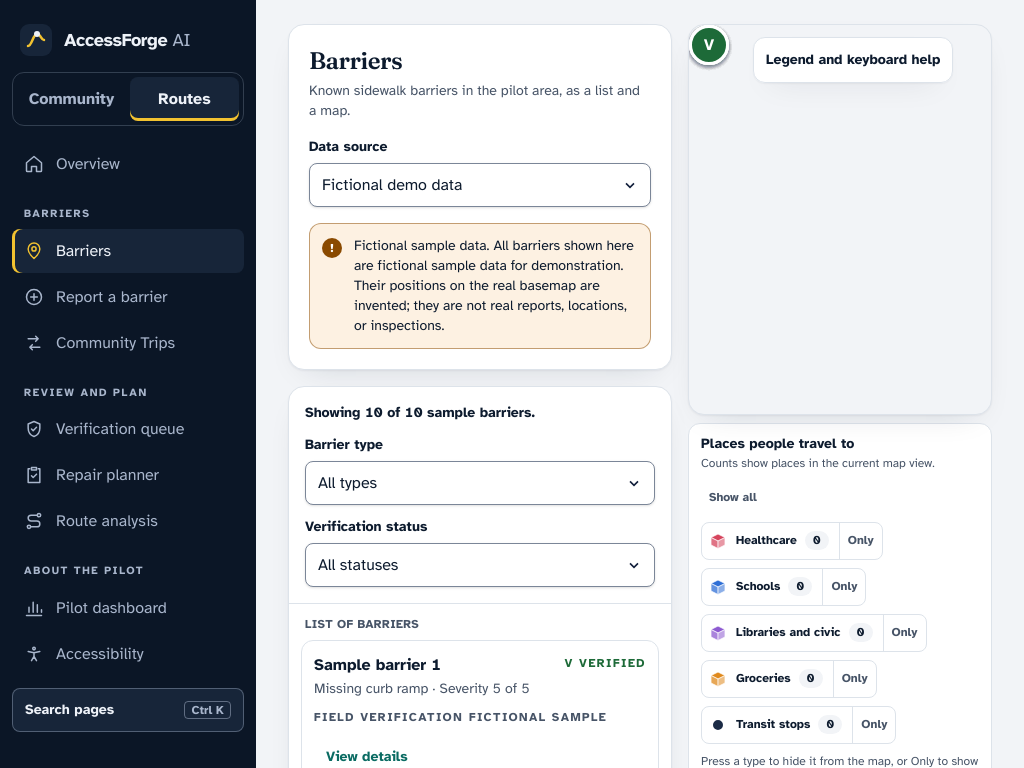
it: Barriers page › filters the list and the map together by type and verification status
Earlier steps of the test are not shown.
Select "Missing curb ramp" in the dropdown labelled "Barrier type" at [480, 483], box [305, 461, 655, 505]
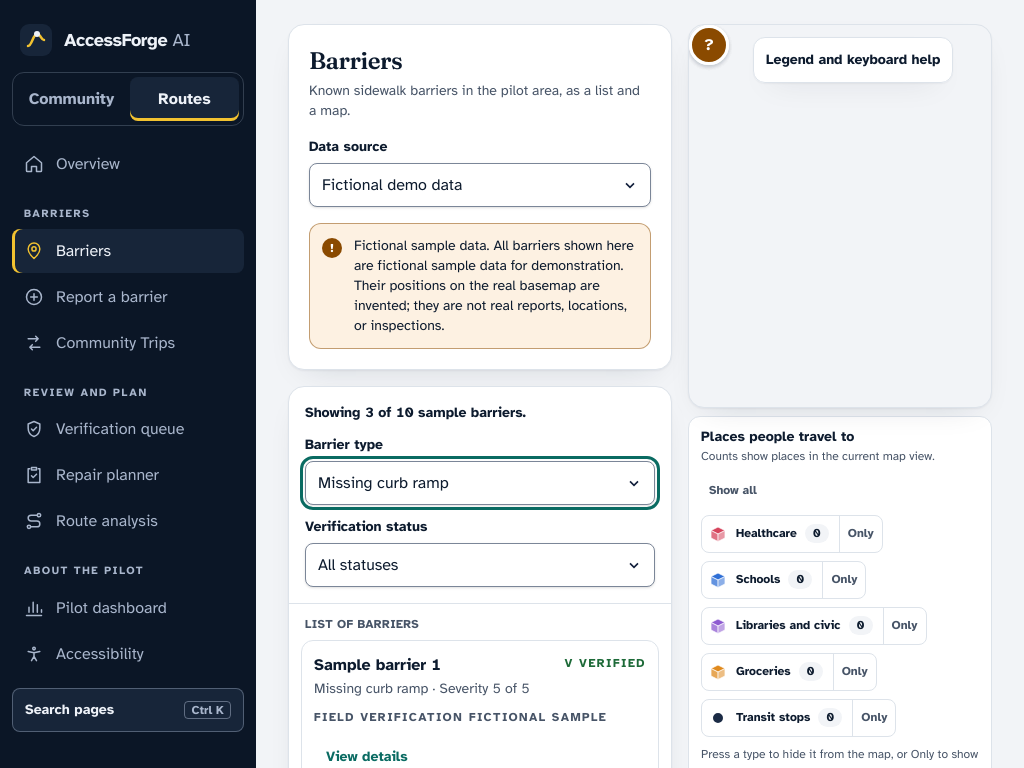
Select "Pending" in the dropdown labelled "Verification status" at [480, 565], box [305, 543, 655, 587]
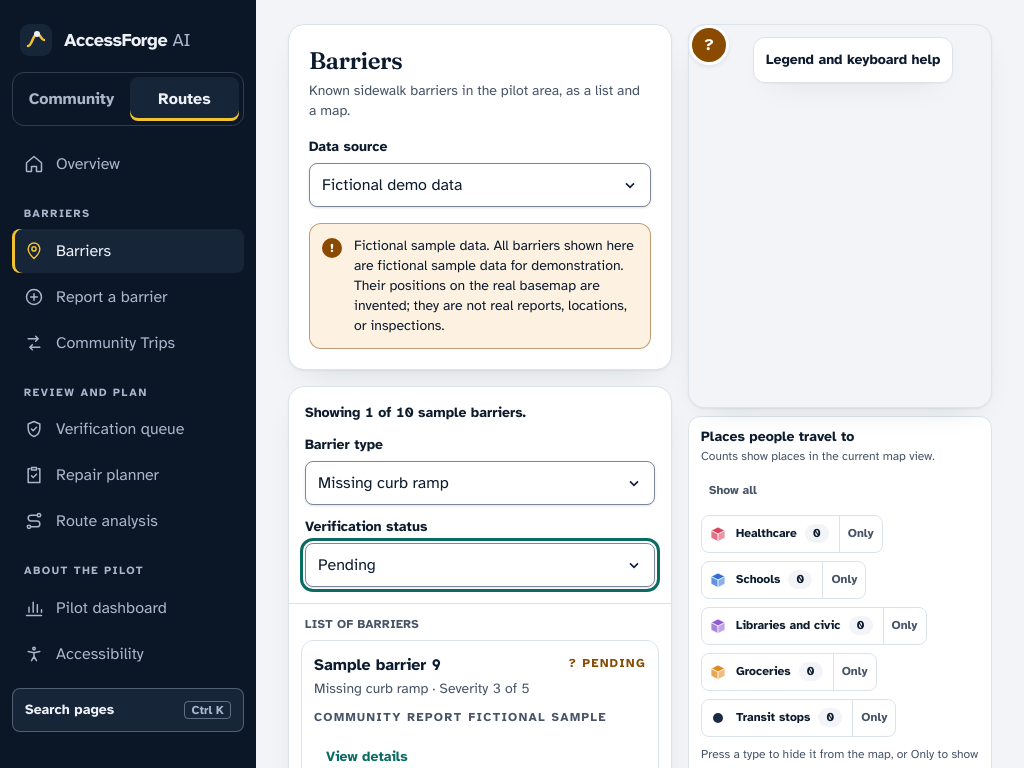
Expected: the number of buttons "?" is 1, [689, 25, 729, 65]
Expected: the message reads "Showing 1 of 10 sample barriers.", [305, 404, 526, 421]
